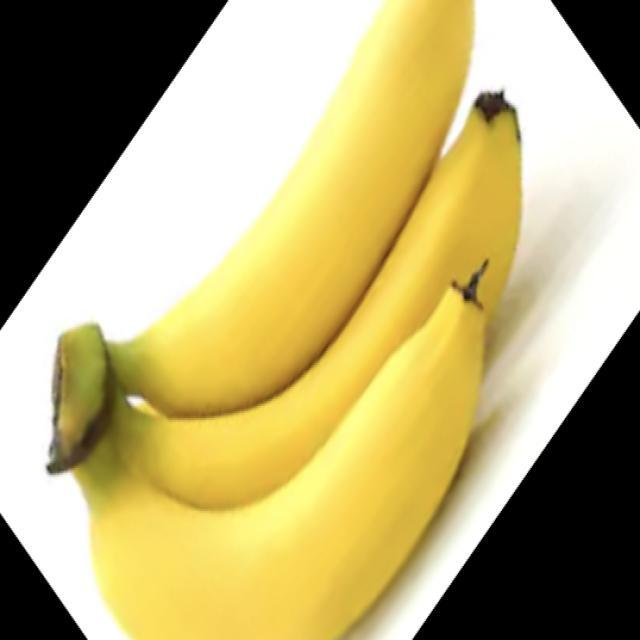Banana: (46, 0, 526, 640)
